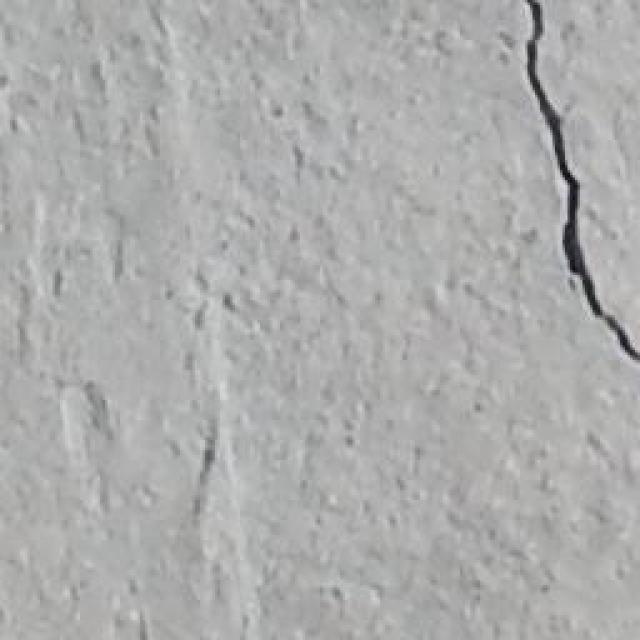concrete-crack: (520, 0, 640, 363)
